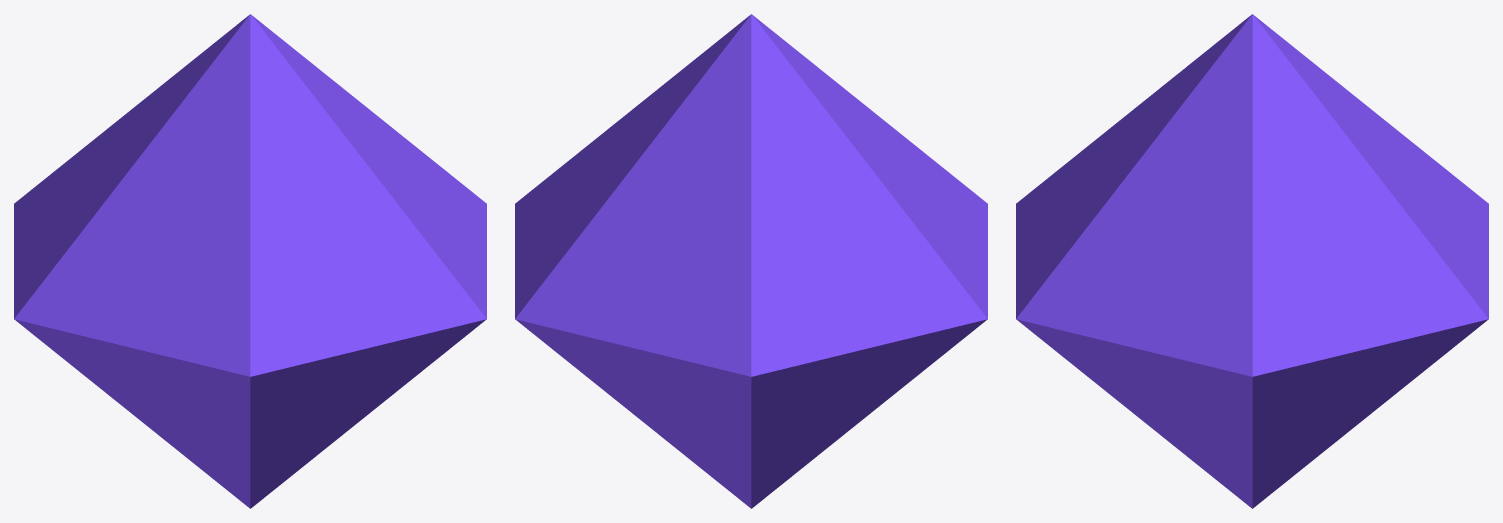
File: cave_wisp_violet.glb
3 renders of one model, left to right at view 1: azimuth 30°, elevation 25°; view 2: azimuth 150°, elevation 25°; view 3: azimuth 270°, elevation 25°, orthographic.
Visible parts, largest first — view 1: cave_wisp_violet; view 2: cave_wisp_violet; view 3: cave_wisp_violet.
Boxes of the visible parts, <box> form: cave_wisp_violet: <box>14,14,486,508</box>; cave_wisp_violet: <box>515,14,987,508</box>; cave_wisp_violet: <box>1016,14,1488,508</box>.
Size of the model in its own units: 0.5 by 0.5 by 0.433.
1 material, 1 textured.
